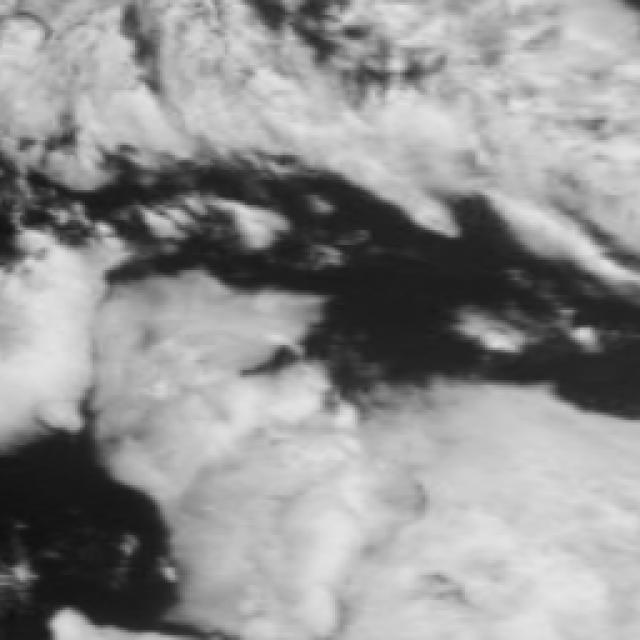CB: (435, 425, 639, 640), (228, 441, 441, 640), (112, 310, 239, 464)
